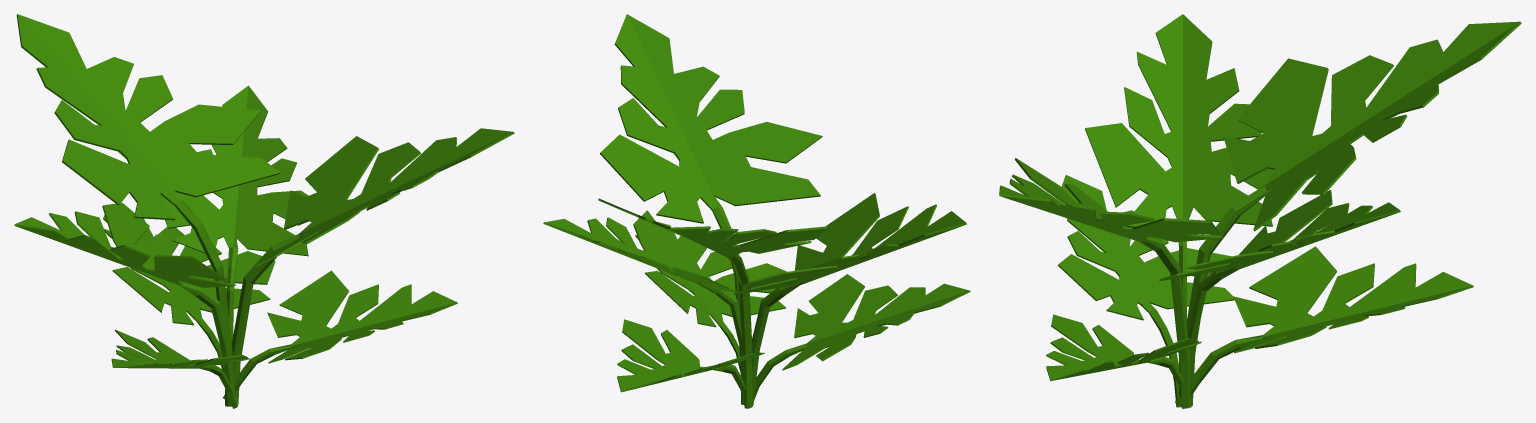
The model's file is Plant_d_01.fbx.
The picture shows the model from 3 angles, left to right: view 1: azimuth 30°, elevation 25°; view 2: azimuth 150°, elevation 25°; view 3: azimuth 270°, elevation 25°; orthographic projection. The views are drawn at different scales.
Visible parts, largest first — view 1: Plant_d_01_LOD0; view 2: Plant_d_01_LOD0; view 3: Plant_d_01_LOD0.
Boxes of the visible parts, x1,y1,x2,y2 form: Plant_d_01_LOD0: (14, 14, 514, 408); Plant_d_01_LOD0: (543, 14, 970, 408); Plant_d_01_LOD0: (999, 14, 1521, 408).
Size of what is drawn, in the model's own units: 10.64 by 7.3 by 9.95.
